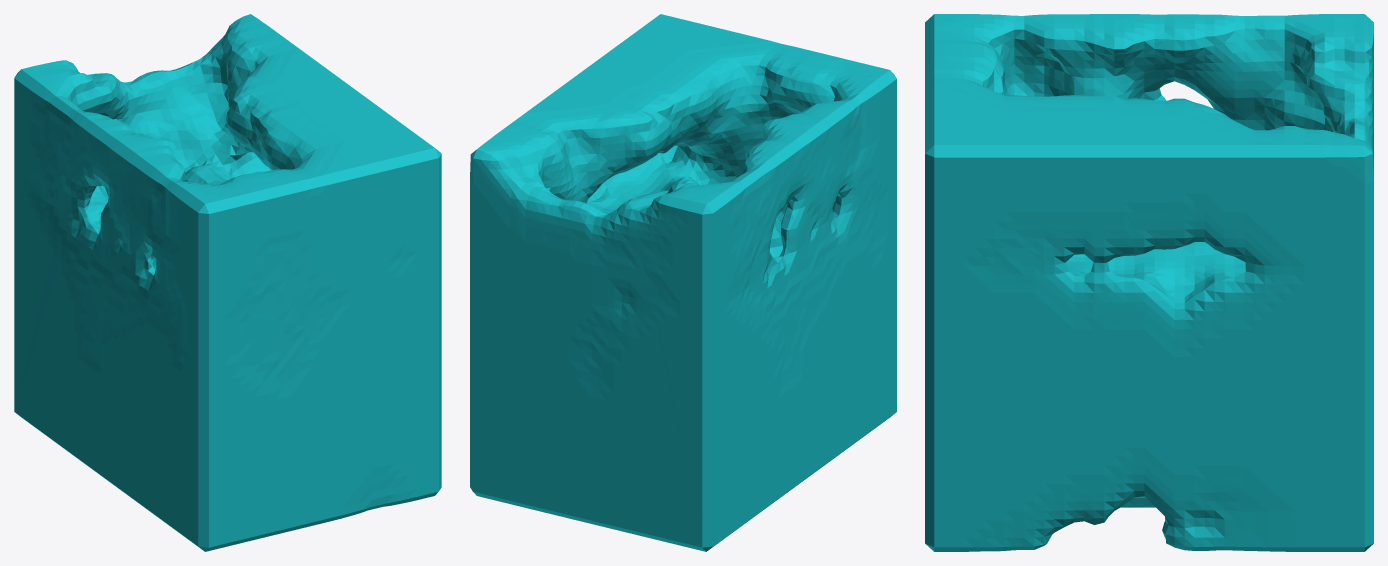
3 renders of one model, left to right at view 1: azimuth 30°, elevation 25°; view 2: azimuth 150°, elevation 25°; view 3: azimuth 270°, elevation 25°, orthographic. The views are drawn at different scales.
Parts seen in each view (by area): view 1: Liquid_Domain; view 2: Liquid_Domain; view 3: Liquid_Domain.
Part boxes in pixels (x1,y1,x2,y2): Liquid_Domain: (14,14,441,551); Liquid_Domain: (470,14,896,551); Liquid_Domain: (925,14,1373,551).
Bounding box in the file's own units: 79.09 × 108 × 108.
